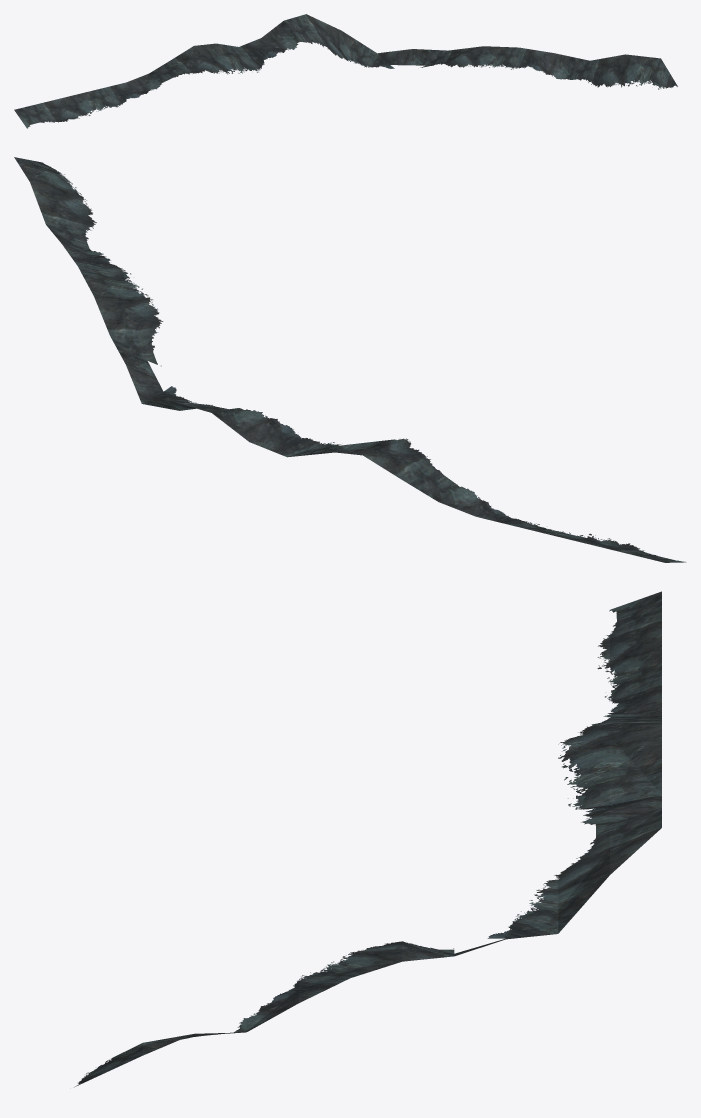
File: blend_weeds.fbx
3 renders of one model, top to bottom at view 1: azimuth 30°, elevation 25°; view 2: azimuth 150°, elevation 25°; view 3: azimuth 270°, elevation 25°, orthographic. The views are drawn at different scales.
Visible parts, largest first — view 1: obj0.021; view 2: obj0.021; view 3: obj0.021.
Part boxes in pixels (x1,y1,x2,y2): obj0.021: [14, 14, 677, 128]; obj0.021: [14, 157, 686, 562]; obj0.021: [74, 591, 661, 1087].
Size of the model in its own units: 57.5 by 3.57 by 30.
